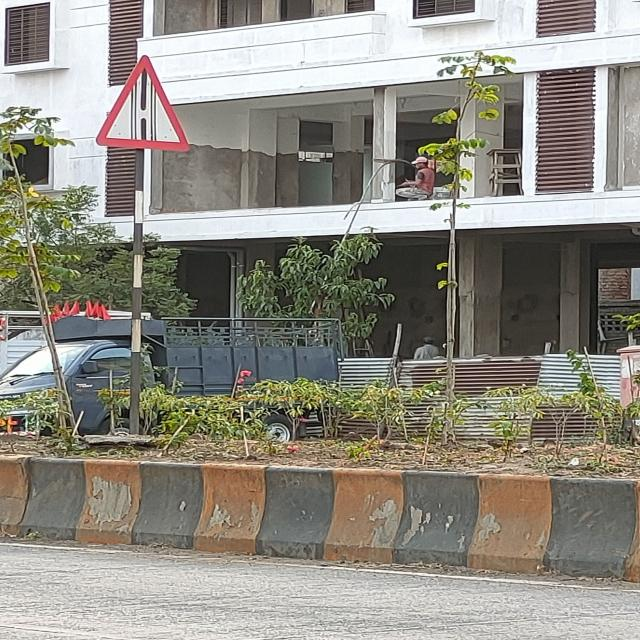ferry: (94, 54, 192, 150)
